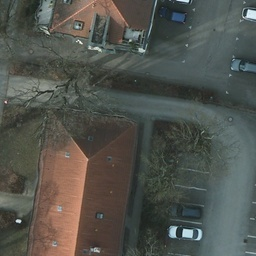car: (168, 225, 203, 241), (156, 9, 186, 26), (170, 204, 203, 218), (229, 58, 256, 73), (241, 7, 255, 22)
